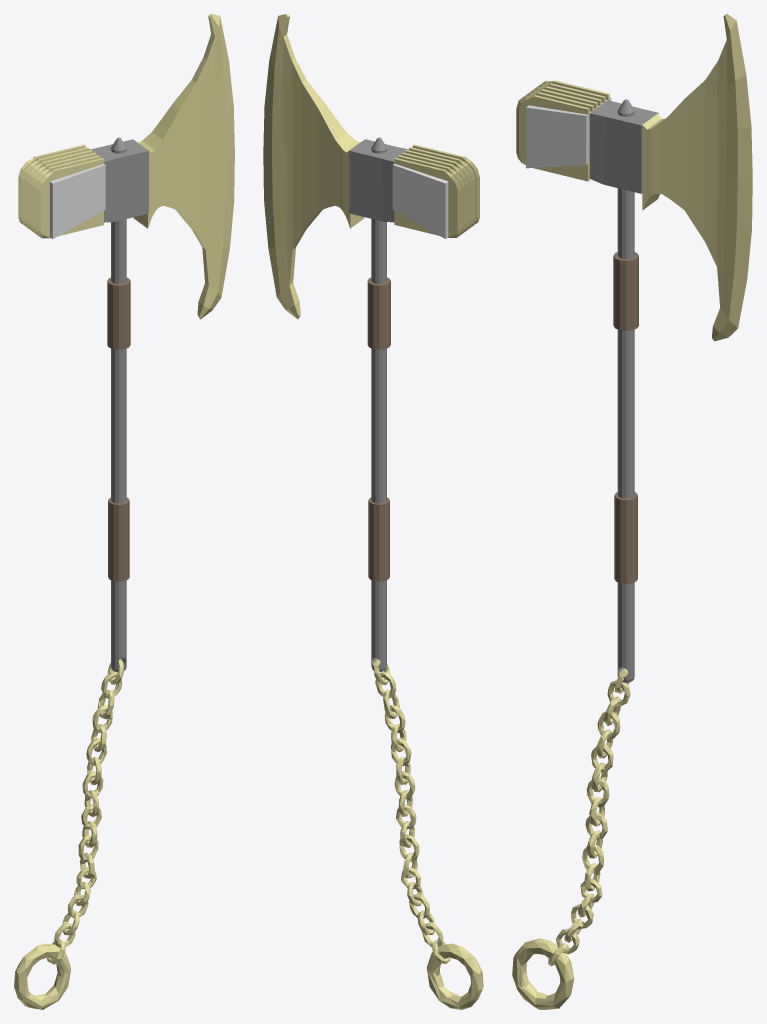
File: mythic_axe.fbx
3 renders of one model, left to right at view 1: azimuth 30°, elevation 25°; view 2: azimuth 150°, elevation 25°; view 3: azimuth 330°, elevation 25°, orthographic. The views are drawn at different scales.
Parts seen in each view (by area): view 1: Cube.003, Torus.001, Cylinder, Cube.001, Cylinder.001, Cube.002, Cube; view 2: Cube.003, Torus.001, Cylinder, Cube.001, Cylinder.001, Cube.002, Cube; view 3: Cube.003, Torus.001, Cylinder, Cube.002, Cylinder.001, Cube, Cube.001.
Boxes of the visible parts, x1,y1,x2,y2 form: Cube.003: (133,14,234,319); Torus.001: (14,659,124,1009); Cylinder: (111,137,126,672); Cube.001: (18,144,103,238); Cylinder.001: (107,277,130,581); Cube.002: (89,139,148,222); Cube: (50,164,105,239); Cube.003: (263,14,364,319); Torus.001: (373,659,483,1009); Cylinder: (371,137,386,671); Cube.001: (394,144,479,237); Cylinder.001: (367,277,390,581); Cube.002: (349,139,408,222); Cube: (392,163,448,238); Cube.003: (642,14,752,341); Torus.001: (512,668,630,1009); Cylinder: (617,99,634,682); Cube.002: (589,100,658,193); Cylinder.001: (613,252,638,583); Cube: (526,97,611,168); Cube.001: (516,80,609,181).
Bounding box in the file's own units: 811 × 3366 × 163.
